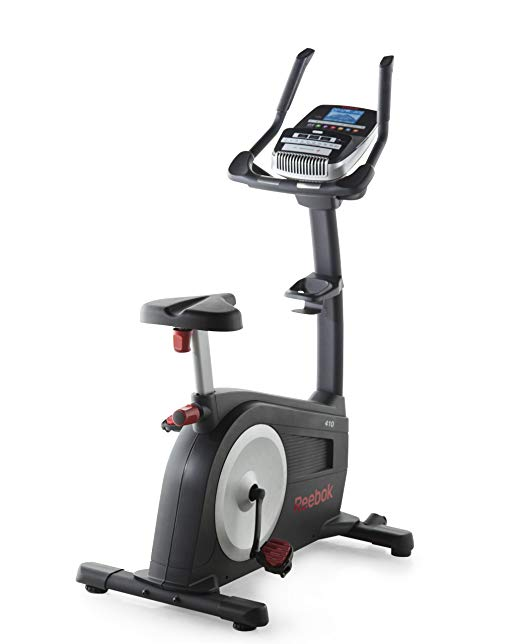gym_bike: (74, 43, 421, 629)
